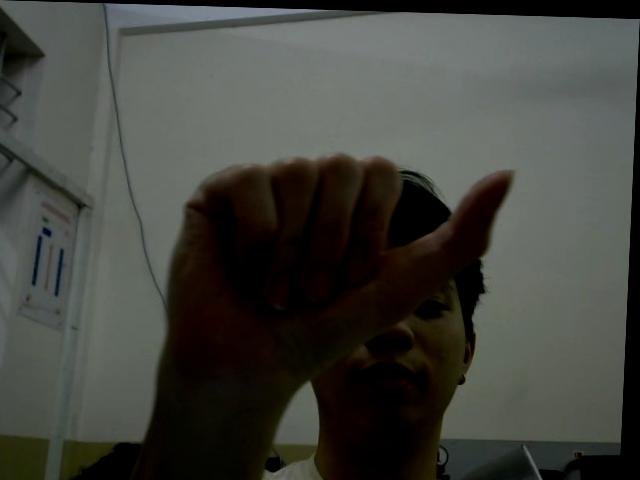A: (164, 148, 519, 371)
